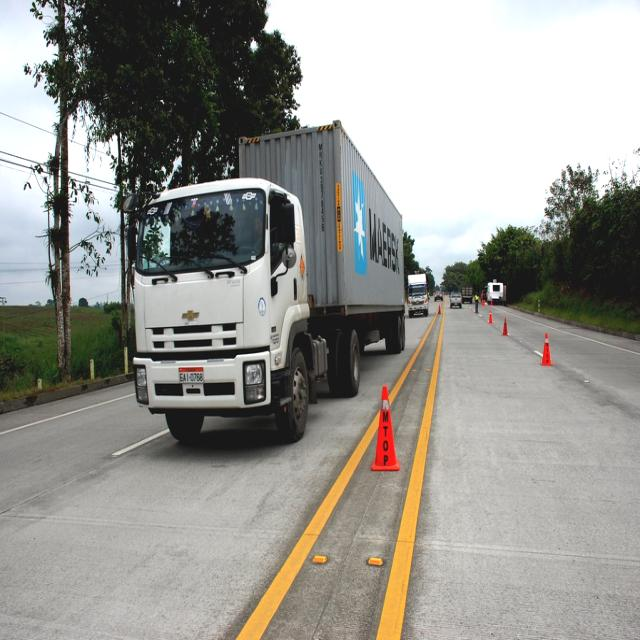TRUCK: (126, 128, 407, 452), (406, 269, 429, 320)
